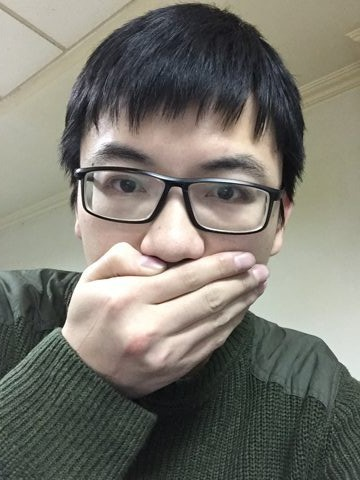face: (76, 127, 274, 361)
